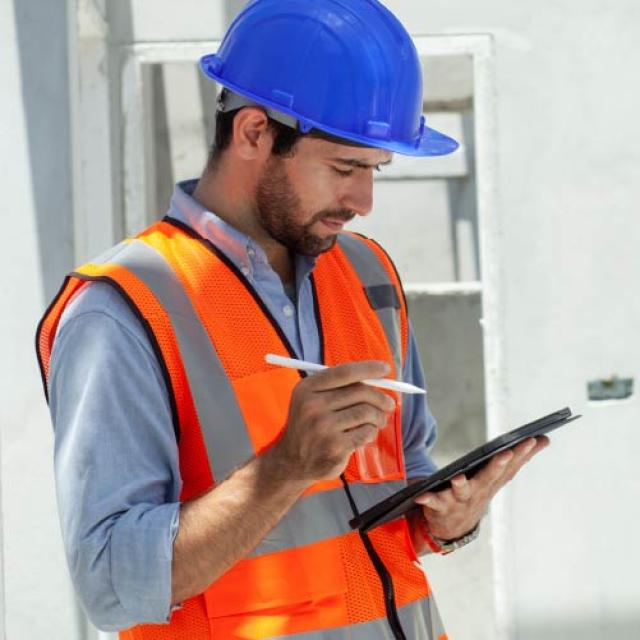helmet: (212, 10, 462, 159)
no-goggles: (305, 150, 397, 185)
vest: (46, 224, 411, 640)
